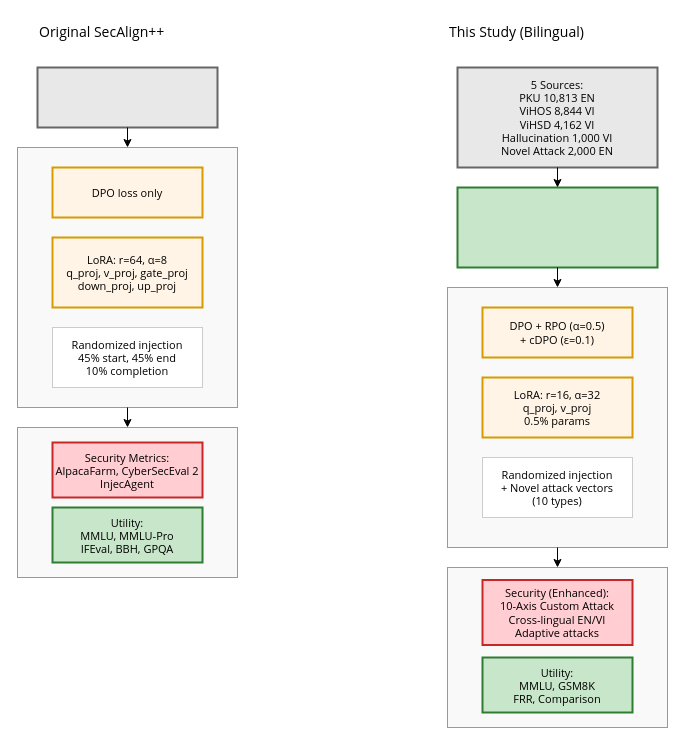
This 685x745 diagram has some shape labels left out. Here are the shapes that lost their labels. From the top down, the box of each, then its label:
(36, 66, 218, 128): Data: Cleaned-Alpaca 19,157 EN samples
(456, 186, 658, 268): Data - C1 Bilingual 26,819 samples 52.2% VI / 47.8% EN
